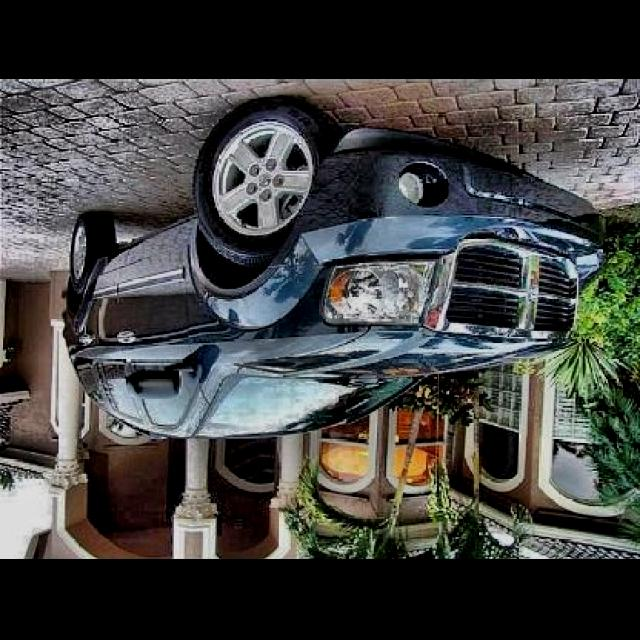black: (52, 138, 615, 450)
